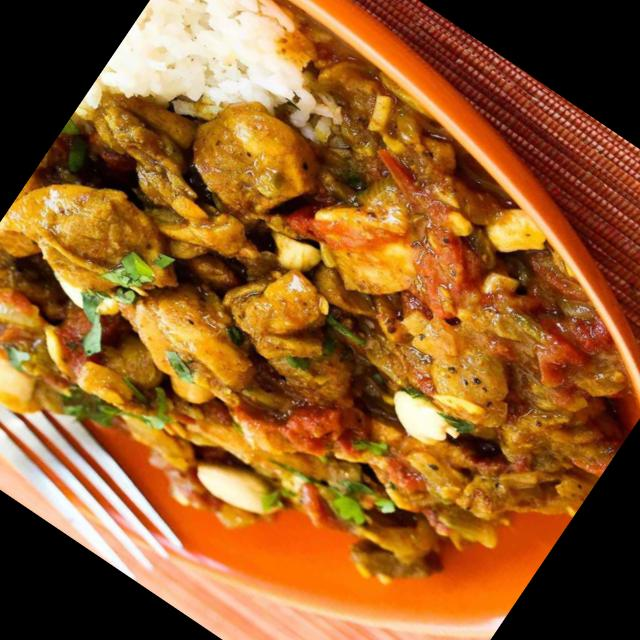chicken: (0, 60, 635, 640)
rice: (103, 0, 326, 163)
